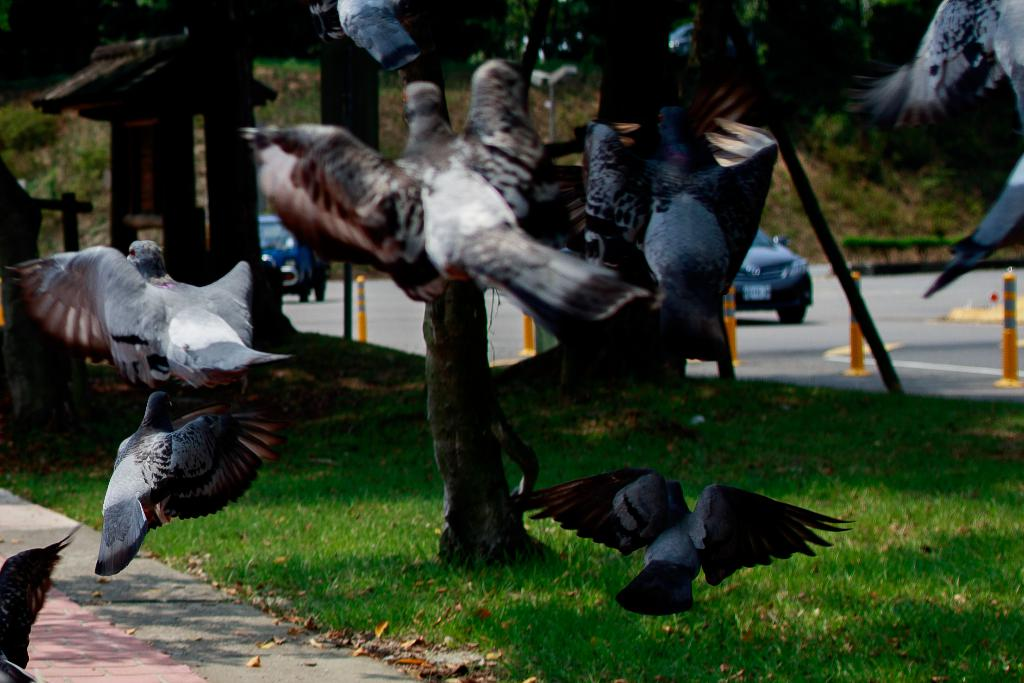cars: (732, 224, 813, 327), (255, 207, 320, 303)
